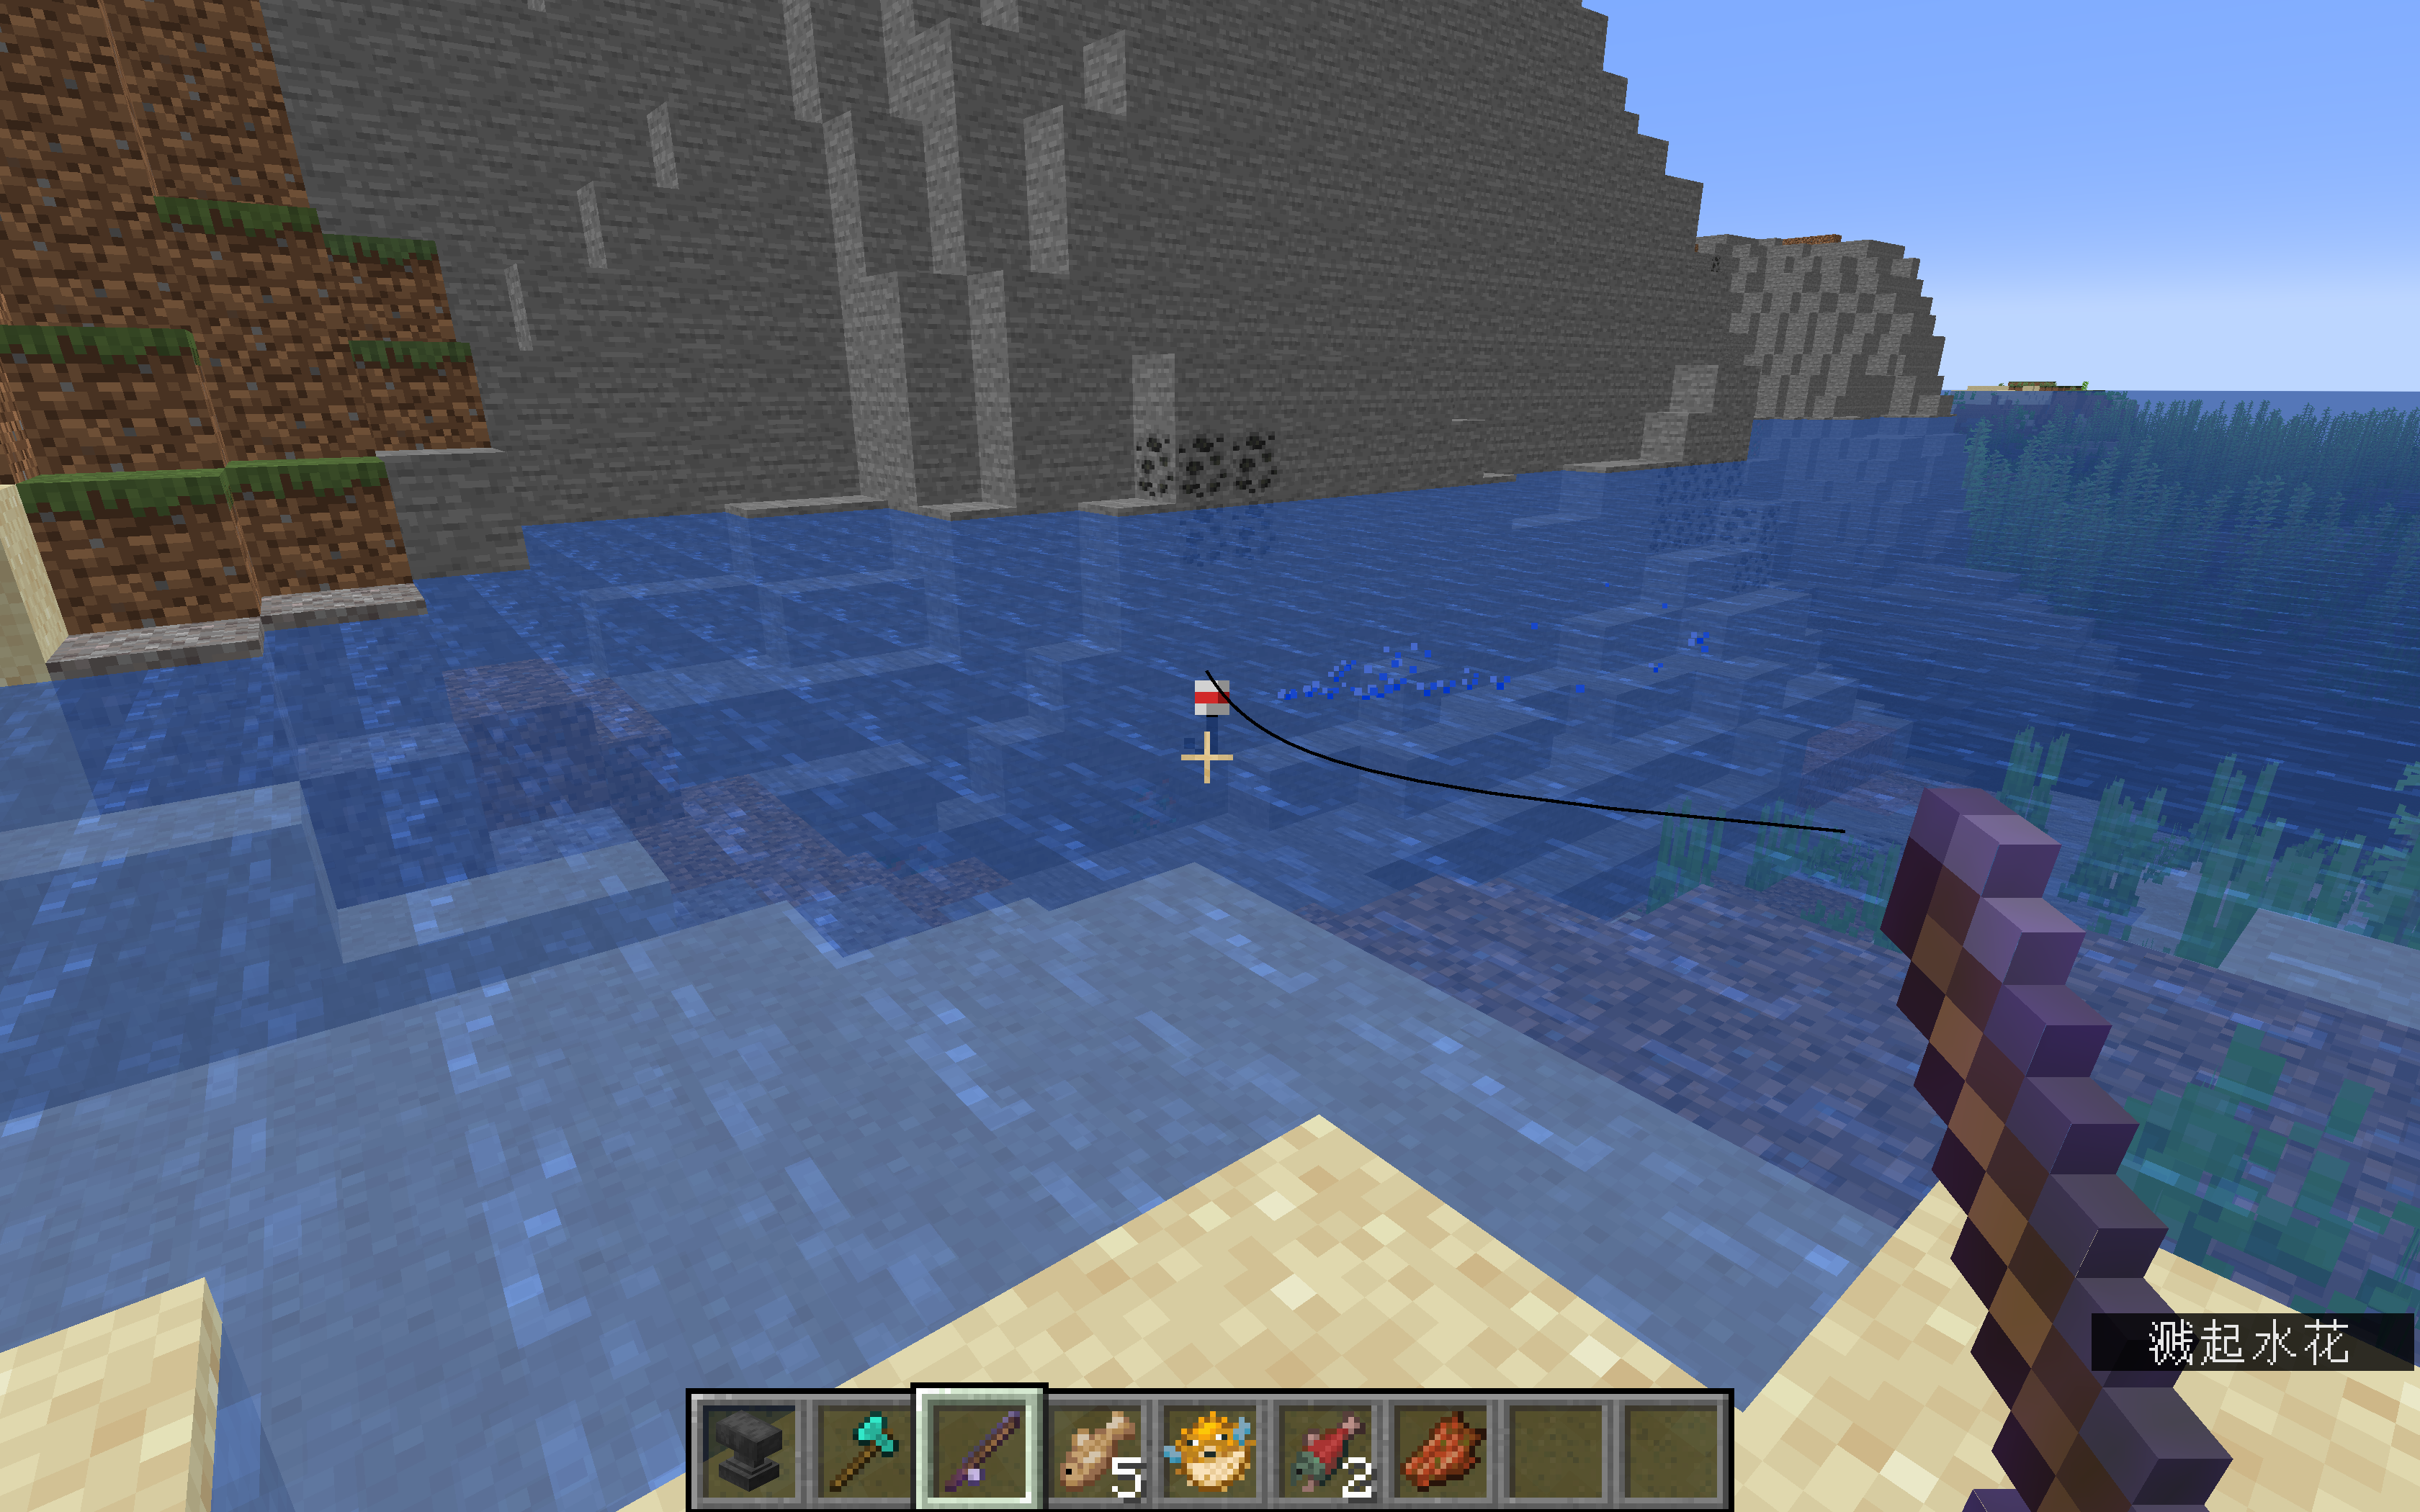inf: (2094, 1312, 2408, 1367)
